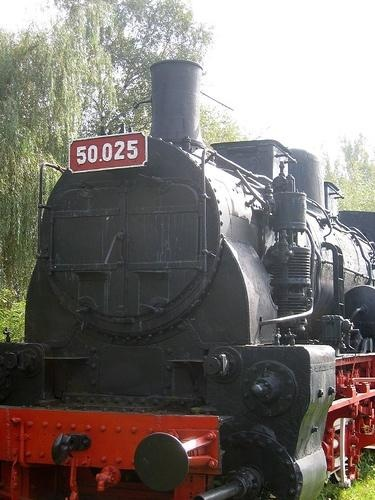train: (3, 60, 374, 500)
